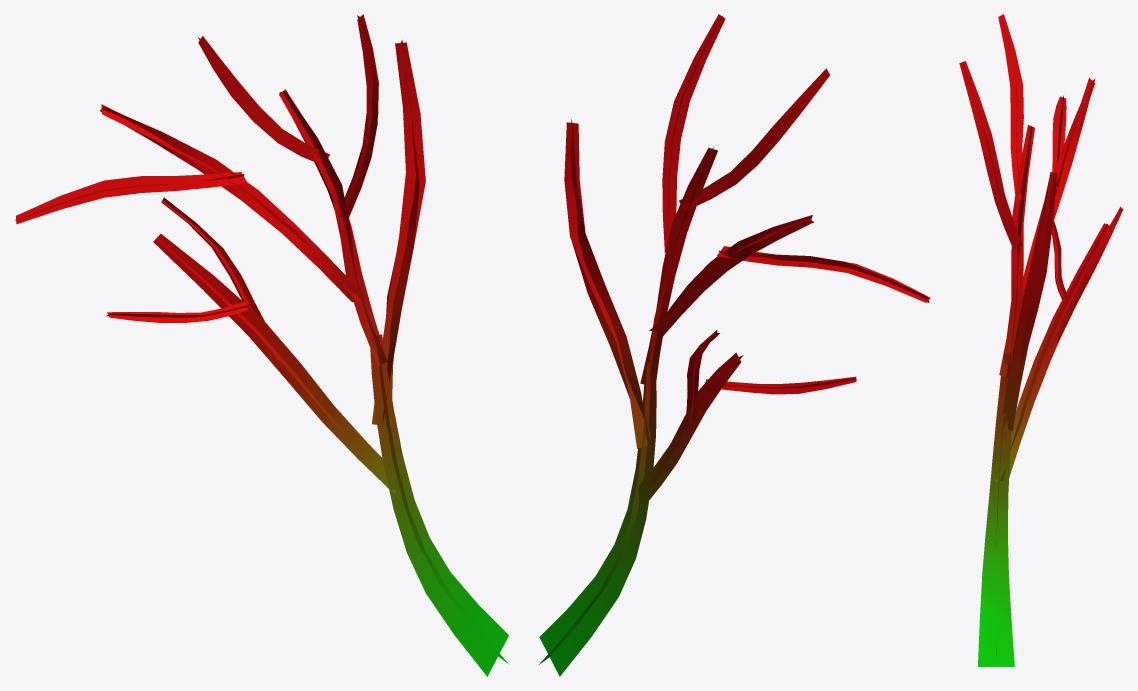
Rendered from Bilberry_LOD0_Var11_vldufeiha.fbx.
3 views of the same model, side by side, from view 1: azimuth 30°, elevation 25°; view 2: azimuth 150°, elevation 25°; view 3: azimuth 270°, elevation 25° (orthographic). The views are drawn at different scales.
Visible parts, largest first — view 1: _bgz4_Var11_LOD0; view 2: _bgz4_Var11_LOD0; view 3: _bgz4_Var11_LOD0.
Boxes of the visible parts, box(x1,y1,x2,y2) form: _bgz4_Var11_LOD0: box(14, 14, 509, 676); _bgz4_Var11_LOD0: box(539, 14, 930, 676); _bgz4_Var11_LOD0: box(959, 14, 1123, 666).
Bounding box in the file's own units: 7.71 × 11.67 × 3.11.
